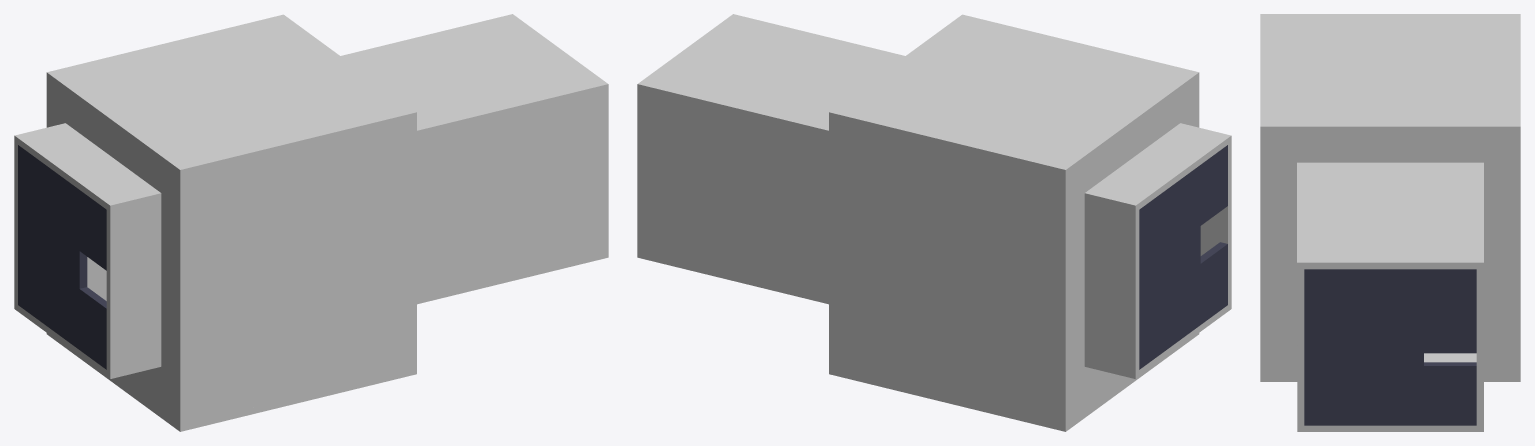
The model's file is Level_1.fbx.
3 renders of one model, left to right at view 1: azimuth 30°, elevation 25°; view 2: azimuth 150°, elevation 25°; view 3: azimuth 270°, elevation 25°, orthographic. The views are drawn at different scales.
Parts seen in each view (by area): view 1: Left Wall, Ceiling.001, Left, Ceiling, Doorway.001, Stop, Left.001, Ceiling.002, Start, Floor.001, Floor, Floor.002 (+2 smaller); view 2: Right Wall, Ceiling.001, Right, Ceiling, Stop, Doorway.001, Right.001, Ceiling.002, Start, Floor.001, Left.001, Floor (+1 smaller); view 3: Ceiling.001, Start, Doorway, Ceiling, Floor, Doorway.002, Left, Right, Stop.
Boxes of the visible parts, x1=… form: Left Wall: x1=186, y1=120, x2=410, y2=423; Ceiling.001: x1=53, y1=16, x2=410, y2=174; Left: x1=417, y1=90, x2=608, y2=297; Ceiling: x1=341, y1=14, x2=608, y2=137; Doorway.001: x1=18, y1=145, x2=106, y2=369; Stop: x1=46, y1=71, x2=186, y2=431; Left.001: x1=106, y1=200, x2=161, y2=372; Ceiling.002: x1=14, y1=123, x2=161, y2=212; Start: x1=277, y1=14, x2=416, y2=375; Floor.001: x1=186, y1=369, x2=410, y2=430; Floor: x1=417, y1=251, x2=608, y2=304; Floor.002: x1=14, y1=302, x2=161, y2=378; Right Wall: x1=835, y1=120, x2=1059, y2=423; Ceiling.001: x1=835, y1=16, x2=1192, y2=174; Right: x1=637, y1=90, x2=828, y2=297; Ceiling: x1=637, y1=14, x2=904, y2=137; Stop: x1=1059, y1=71, x2=1199, y2=431; Doorway.001: x1=1139, y1=145, x2=1227, y2=369; Right.001: x1=1084, y1=200, x2=1139, y2=372; Ceiling.002: x1=1084, y1=123, x2=1231, y2=212; Start: x1=829, y1=14, x2=968, y2=375; Floor.001: x1=835, y1=369, x2=1059, y2=430; Left.001: x1=1200, y1=142, x2=1231, y2=304; Floor: x1=637, y1=251, x2=828, y2=304; Ceiling.001: x1=1260, y1=17, x2=1520, y2=123; Start: x1=1260, y1=123, x2=1520, y2=381; Doorway: x1=1304, y1=269, x2=1476, y2=425; Ceiling: x1=1297, y1=162, x2=1483, y2=269; Floor: x1=1297, y1=353, x2=1483, y2=431; Doorway.002: x1=1424, y1=329, x2=1476, y2=353; Left: x1=1297, y1=269, x2=1304, y2=425; Right: x1=1476, y1=269, x2=1483, y2=425; Stop: x1=1260, y1=14, x2=1520, y2=16.
Size of the model in its own units: 1810 by 909 by 840.
